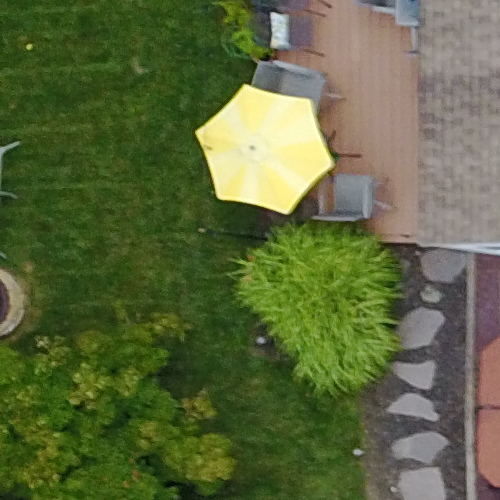umbrella: (172, 60, 338, 238)
